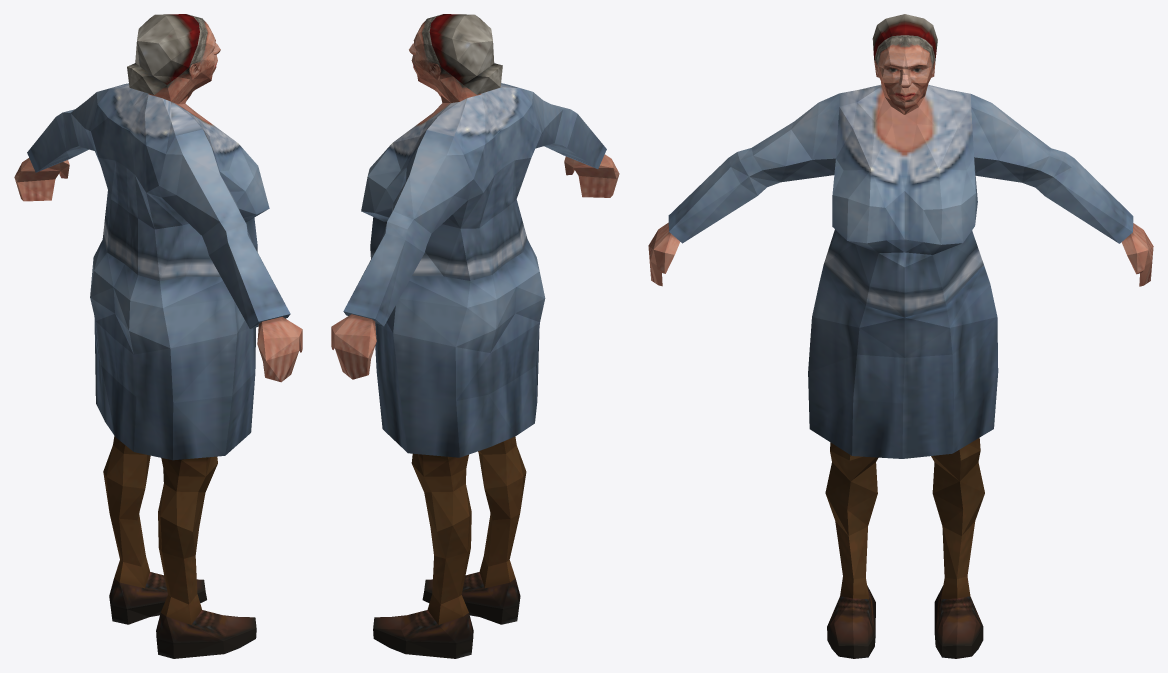
Rendered from wfost.obj.
The picture shows the model from 3 angles, left to right: view 1: azimuth 30°, elevation 25°; view 2: azimuth 150°, elevation 25°; view 3: azimuth 270°, elevation 25°; orthographic projection.
Parts seen in each view (by area): view 1: _Pelvis; view 2: _Pelvis; view 3: _Pelvis.
Boxes of the visible parts, left/top/right/bottom form: _Pelvis: left=14, top=14, right=302, bottom=658; _Pelvis: left=331, top=14, right=619, bottom=658; _Pelvis: left=648, top=14, right=1153, bottom=658.
Bounding box in the file's own units: 0.4081 × 1.65 × 1.23.
Materials: 1 (1 with a texture image).
